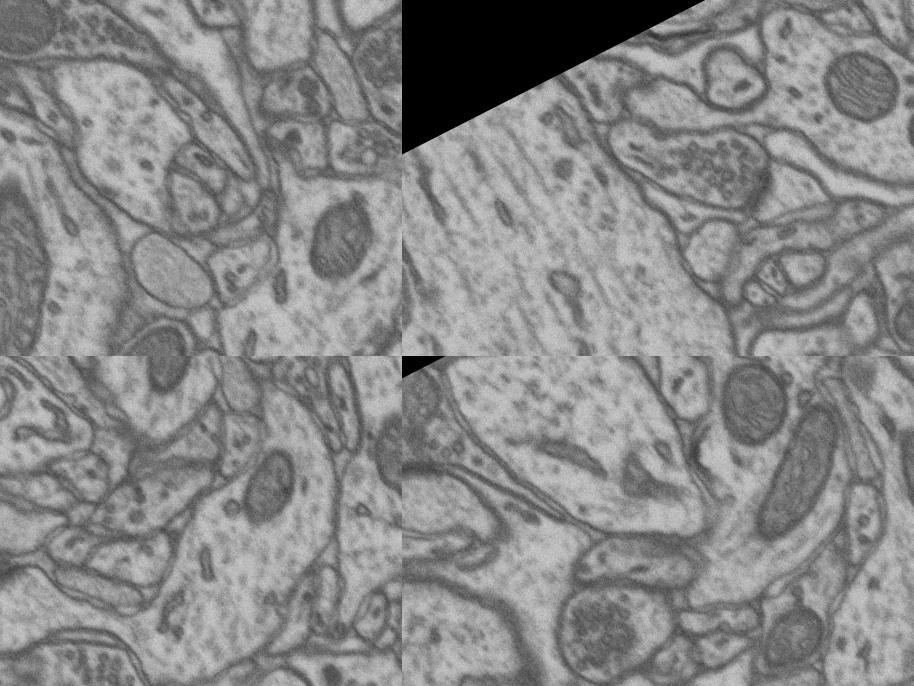mitochondria: (708, 393, 884, 562), (0, 175, 108, 356), (798, 21, 914, 150), (285, 183, 401, 297), (694, 356, 813, 465), (216, 436, 322, 540), (744, 592, 843, 685), (63, 302, 222, 356), (402, 173, 441, 356), (111, 356, 228, 416), (0, 0, 83, 82), (352, 390, 402, 524), (402, 361, 461, 457), (869, 410, 914, 531), (869, 273, 914, 356)
